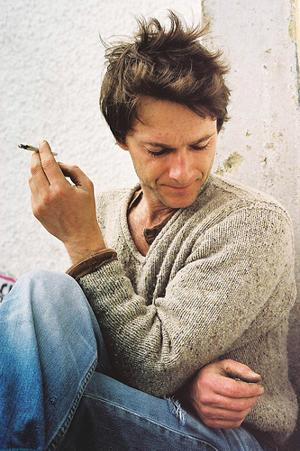person: (2, 26, 300, 451)
